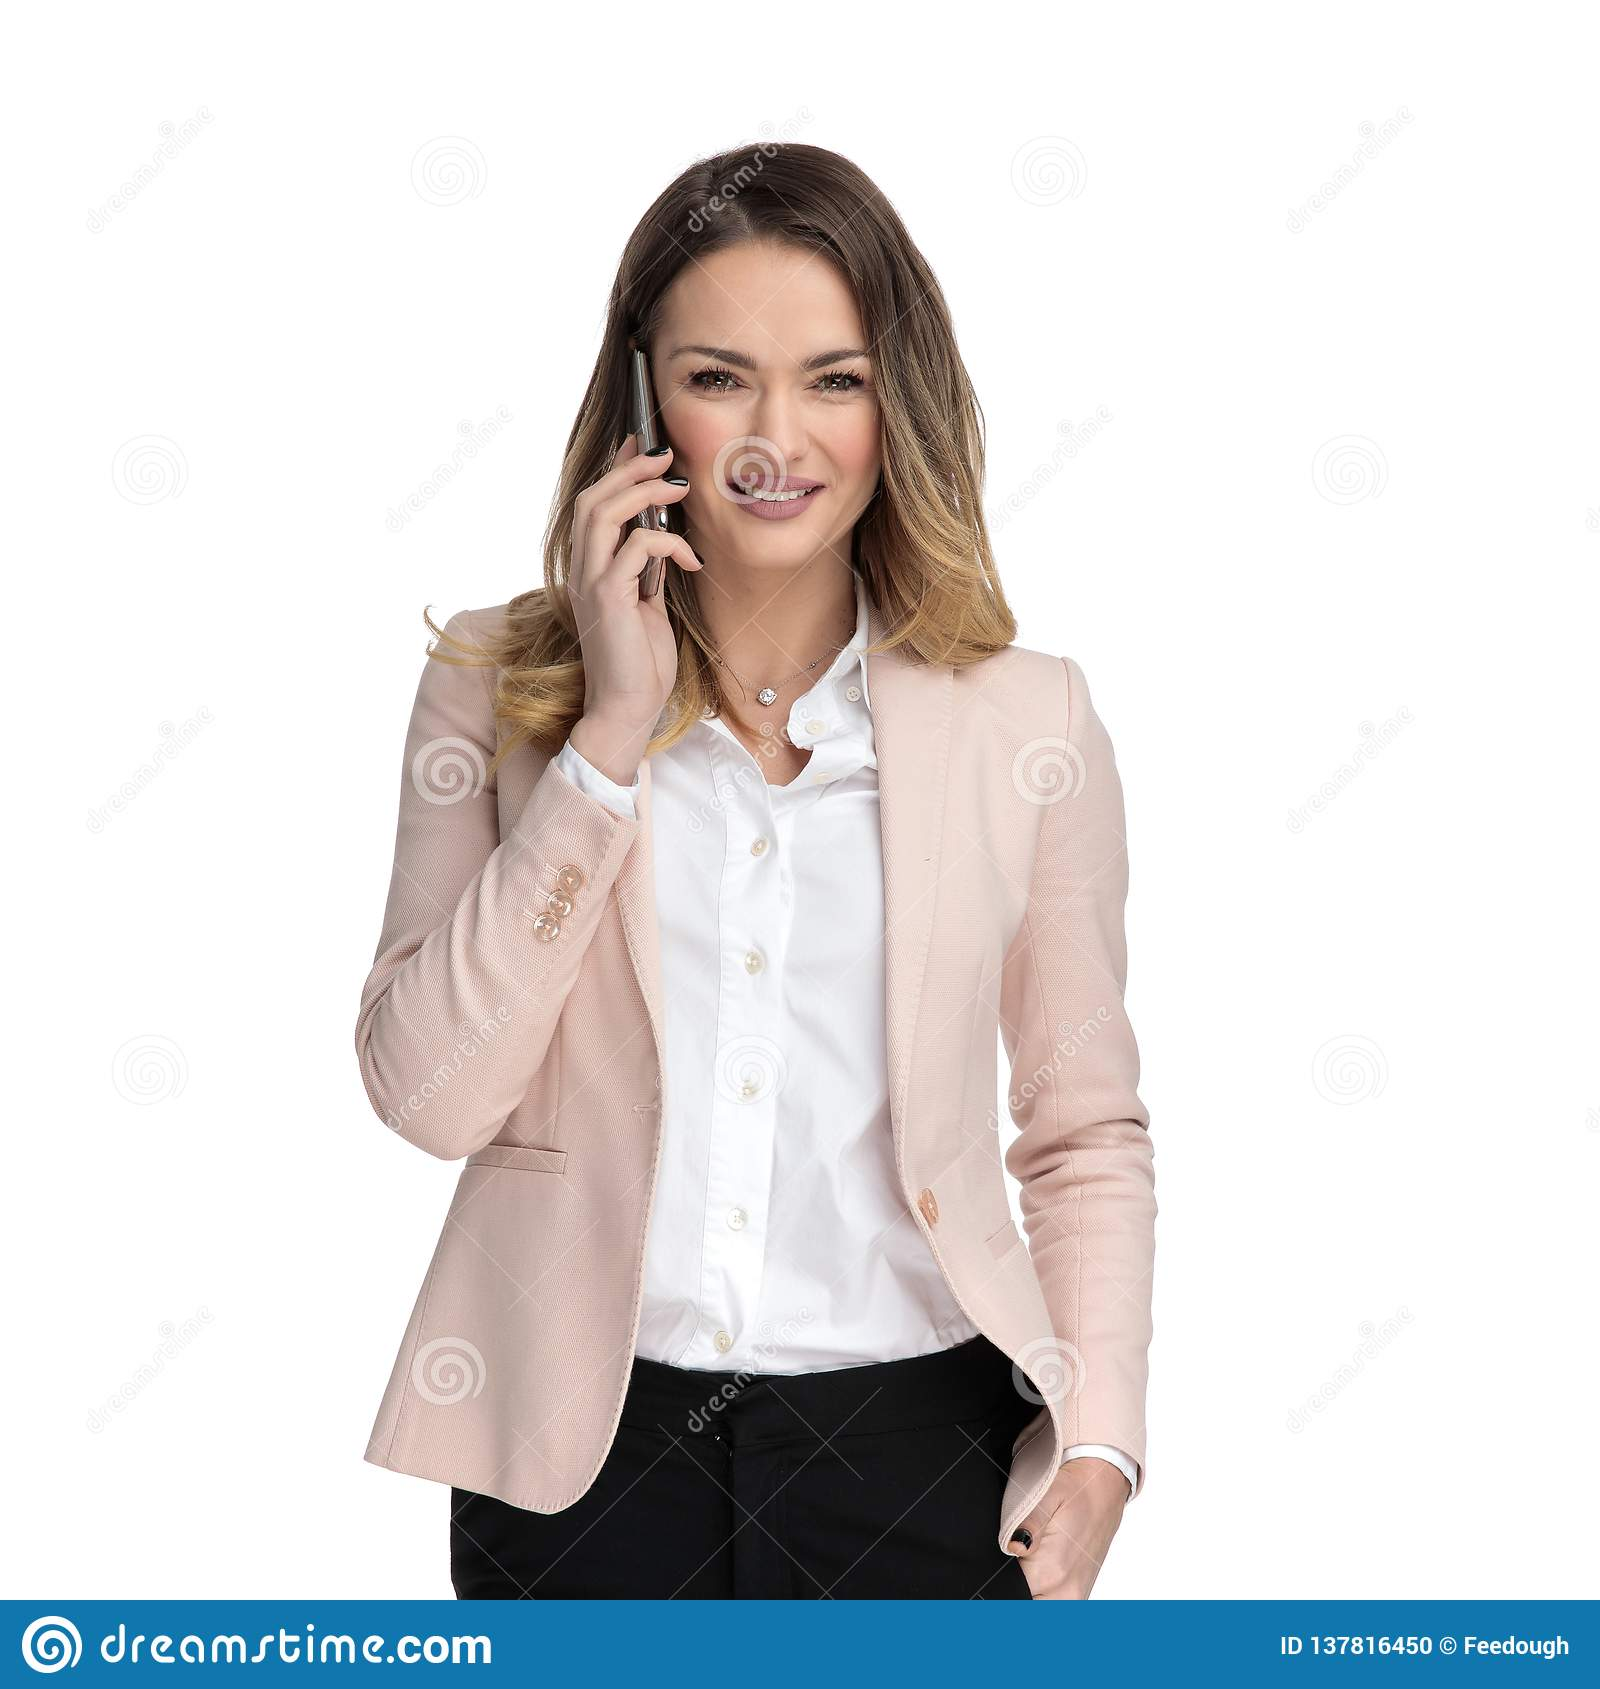phone: (621, 329, 683, 614)
talk: (565, 301, 880, 784)
